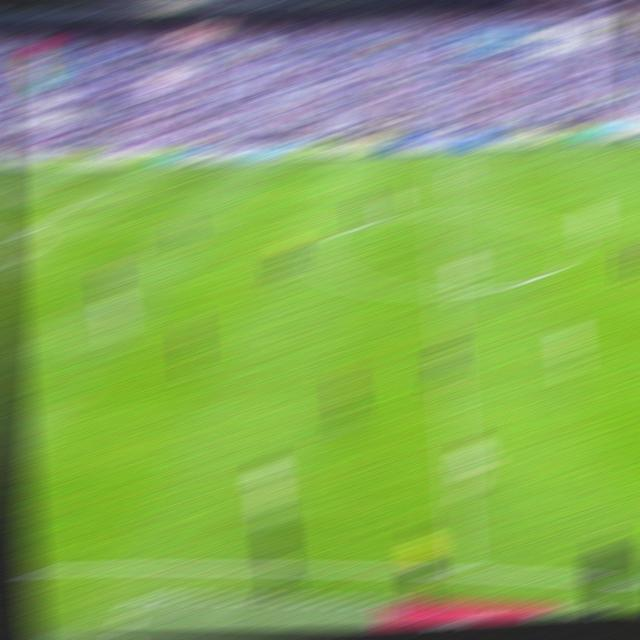halfcircle_top: (430, 205, 453, 219)
midline_bottom_intersection: (447, 558, 476, 577)
midline_top_intersection: (428, 151, 448, 159)
top_arc_area_intersection: (13, 225, 36, 236)
